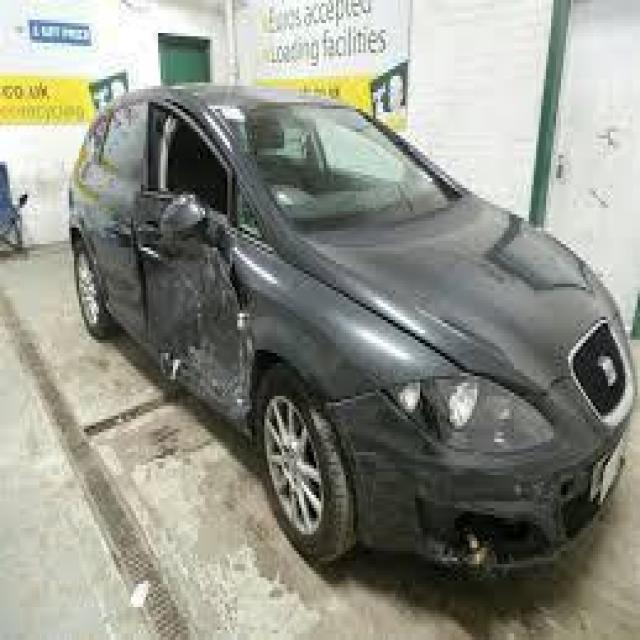damaged: (128, 175, 264, 429), (435, 494, 504, 580)
